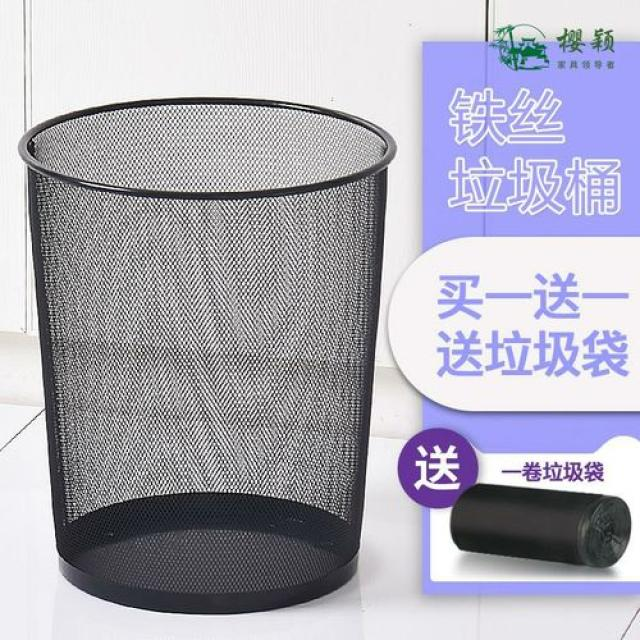dustbin: (13, 88, 406, 616)
